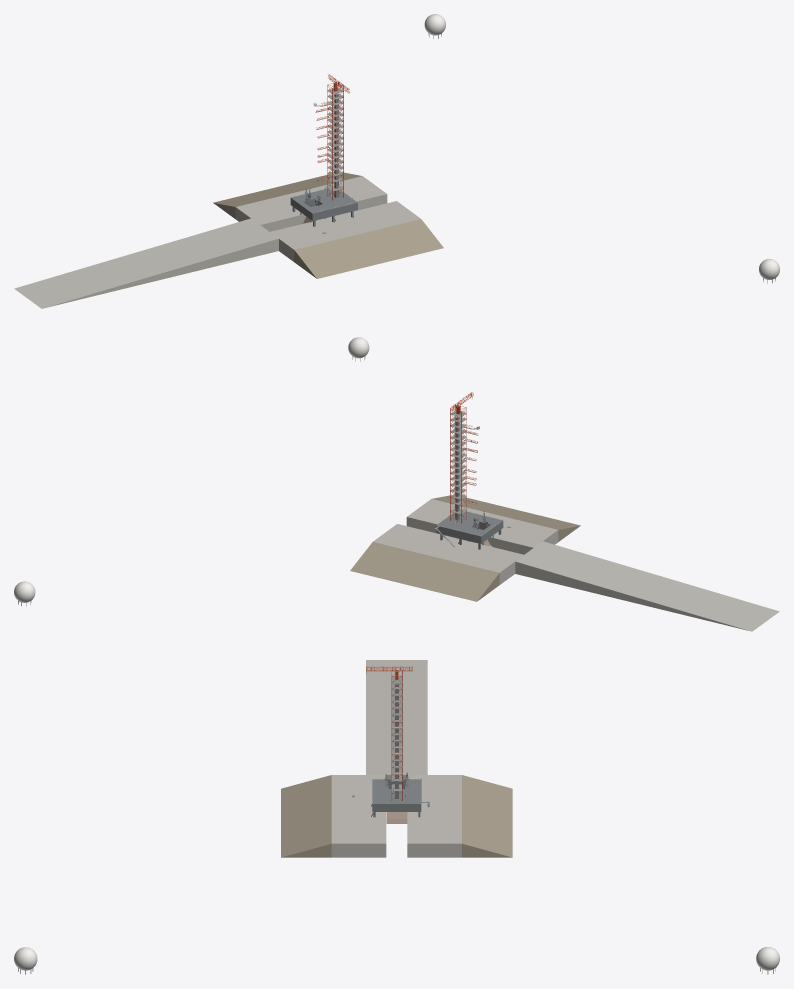
File: pad-b-1969-05.lod1.glb
3 views of the same model, one above another, from view 1: azimuth 30°, elevation 25°; view 2: azimuth 150°, elevation 25°; view 3: azimuth 270°, elevation 25° (orthographic). The views are drawn at different scales.
Visible parts, largest first — view 1: Hardstand_Concrete, Hardstand_Earth, Launcher_Base_Steel, Umbilical_Tower_Deck, Umbilical_Tower_Red, Storage_Spheres_White; view 2: Hardstand_Concrete, Hardstand_Earth, Launcher_Base_Steel, Umbilical_Tower_Deck, Umbilical_Tower_Red, Storage_Spheres_White; view 3: Hardstand_Concrete, Hardstand_Earth, Launcher_Base_Steel, Umbilical_Tower_Deck, Storage_Spheres_White, Umbilical_Tower_Red.
Boxes of the visible parts, x1=… form: Hardstand_Concrete: x1=14, y1=176, x2=420, y2=308; Hardstand_Earth: x1=213, y1=172, x2=443, y2=278; Launcher_Base_Steel: x1=290, y1=189, x2=357, y2=220; Umbilical_Tower_Deck: x1=327, y1=87, x2=343, y2=191; Umbilical_Tower_Red: x1=327, y1=82, x2=343, y2=200; Storage_Spheres_White: x1=424, y1=14, x2=779, y2=279; Hardstand_Concrete: x1=373, y1=499, x2=779, y2=631; Hardstand_Earth: x1=350, y1=495, x2=580, y2=601; Launcher_Base_Steel: x1=436, y1=511, x2=503, y2=543; Umbilical_Tower_Deck: x1=450, y1=410, x2=466, y2=514; Umbilical_Tower_Red: x1=450, y1=405, x2=466, y2=523; Storage_Spheres_White: x1=14, y1=337, x2=369, y2=602; Hardstand_Concrete: x1=331, y1=660, x2=461, y2=857; Hardstand_Earth: x1=281, y1=775, x2=512, y2=857; Launcher_Base_Steel: x1=372, y1=779, x2=421, y2=811; Umbilical_Tower_Deck: x1=391, y1=676, x2=402, y2=790; Storage_Spheres_White: x1=14, y1=947, x2=779, y2=970; Umbilical_Tower_Red: x1=391, y1=670, x2=402, y2=800.
Bounding box in the file's own units: 630 × 149 × 645.
